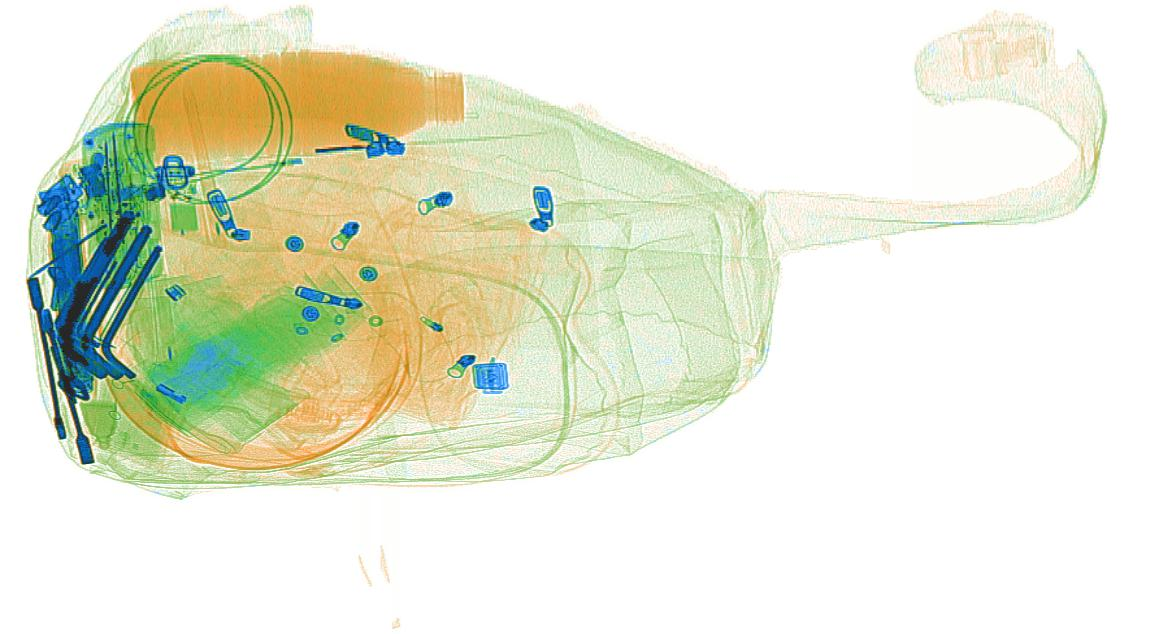battery: (49, 222, 85, 313)
